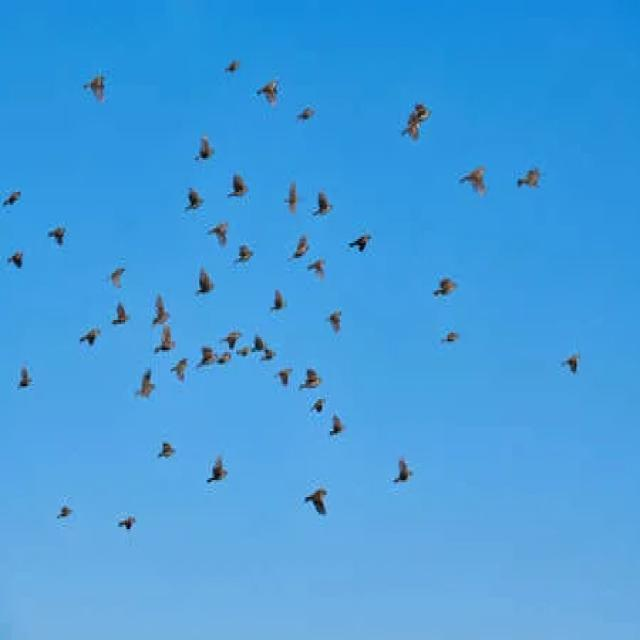bird: (70, 49, 119, 118), (458, 147, 502, 218), (246, 55, 294, 116), (400, 87, 441, 158), (196, 440, 239, 502), (383, 445, 422, 509), (298, 471, 339, 525), (552, 329, 586, 394), (308, 170, 342, 232), (124, 364, 166, 413), (426, 266, 466, 316), (108, 498, 144, 552), (513, 152, 545, 212), (75, 323, 114, 368), (289, 88, 325, 134), (298, 353, 338, 394), (49, 493, 82, 542), (320, 299, 350, 350), (144, 282, 180, 324), (154, 426, 184, 476), (44, 206, 74, 255), (190, 127, 222, 170), (274, 167, 302, 216), (13, 356, 40, 406), (348, 228, 380, 265), (193, 333, 222, 373), (106, 300, 136, 338), (223, 170, 258, 202), (250, 325, 276, 368), (438, 325, 468, 362), (218, 40, 246, 79), (208, 211, 230, 260), (302, 254, 335, 286), (286, 223, 312, 263), (103, 260, 133, 294), (162, 352, 196, 382), (269, 278, 291, 324), (328, 412, 352, 452), (196, 262, 221, 299), (274, 362, 296, 402), (183, 178, 204, 218), (1, 250, 32, 276), (0, 179, 24, 211), (234, 240, 254, 278), (236, 351, 260, 381), (307, 392, 329, 424), (158, 324, 179, 356), (218, 344, 233, 388), (223, 328, 242, 360)
